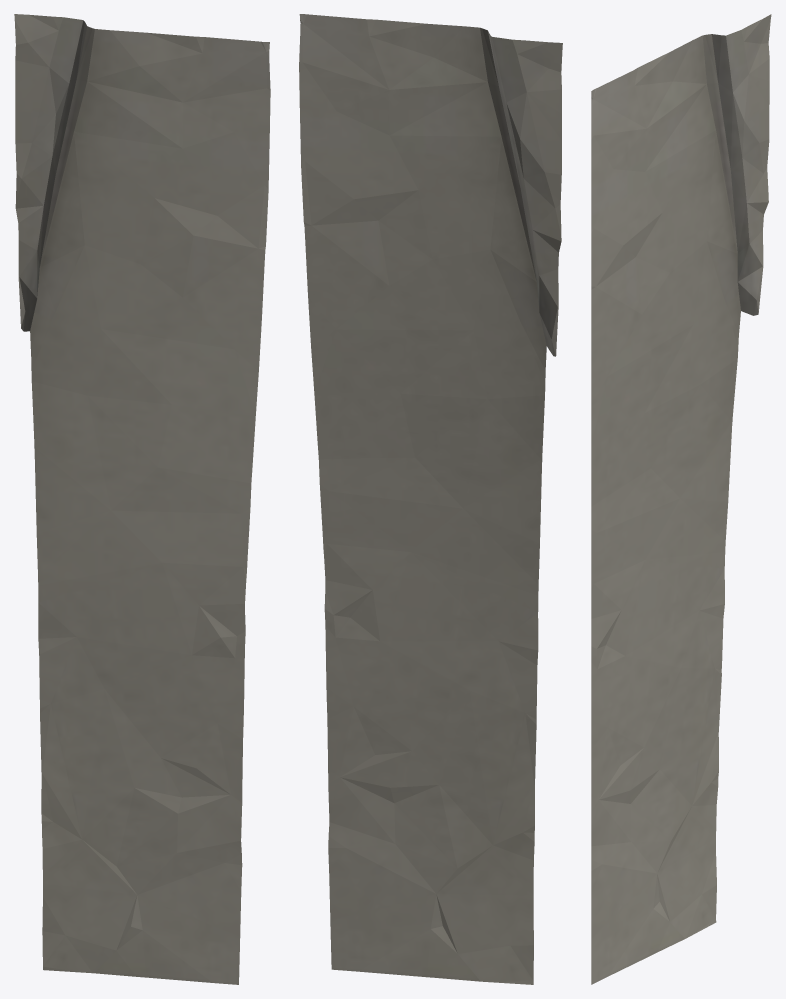
The picture shows the model from 3 angles, left to right: view 1: azimuth 30°, elevation 25°; view 2: azimuth 210°, elevation 25°; view 3: azimuth 270°, elevation 25°; orthographic projection. The views are drawn at different scales.
Size of the model in its own units: 0.3064 by 1.67 by 0.3009.
1 material, 1 textured.
